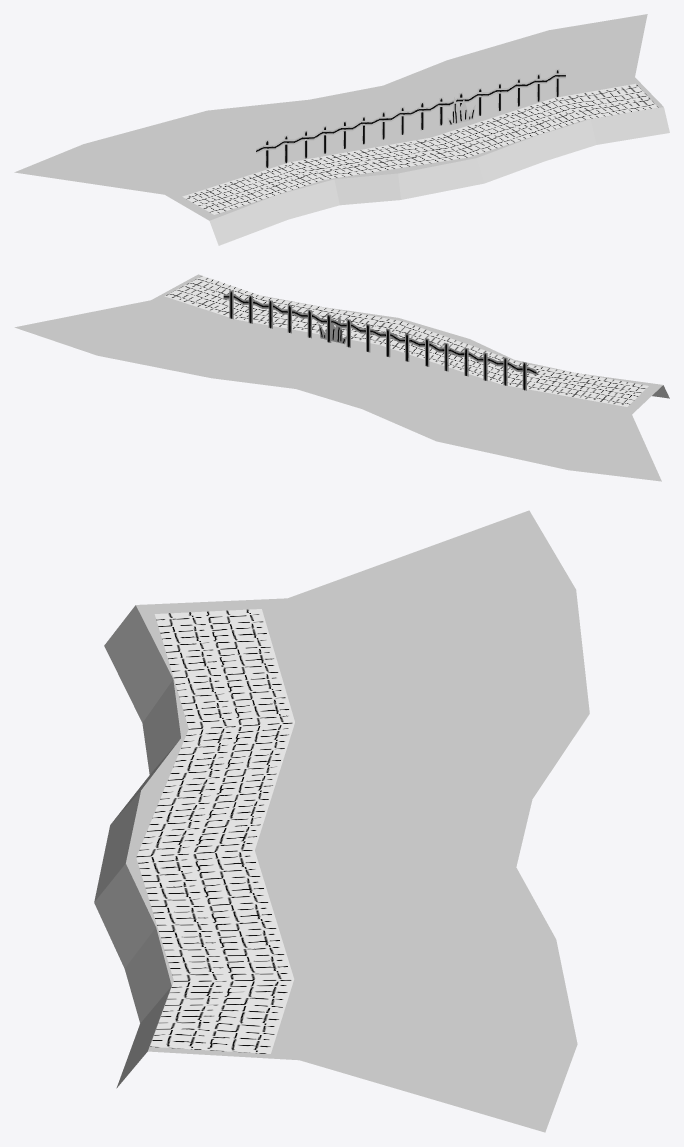
File: ground.fbx
3 renders of one model, top to bottom at view 1: azimuth 30°, elevation 25°; view 2: azimuth 150°, elevation 25°; view 3: azimuth 270°, elevation 25°, orthographic. The views are drawn at different scales.
Visible parts, largest first — view 1: Plane, Plane.004, Plane.003, Plane.002; view 2: Plane, Plane.004, Plane.003, Plane.002; view 3: Plane, Plane.004.
Boxes of the visible parts, x1,y1,x2,y2 form: Plane: (14, 14, 669, 245); Plane.004: (182, 83, 658, 214); Plane.003: (256, 69, 565, 168); Plane.002: (447, 97, 475, 125); Plane: (14, 274, 669, 481); Plane.004: (164, 276, 648, 406); Plane.003: (223, 290, 536, 390); Plane.002: (318, 315, 346, 344); Plane: (94, 510, 589, 1132); Plane.004: (136, 609, 294, 1053).
Size of the model in its own units: 6781 by 487 by 2283.
